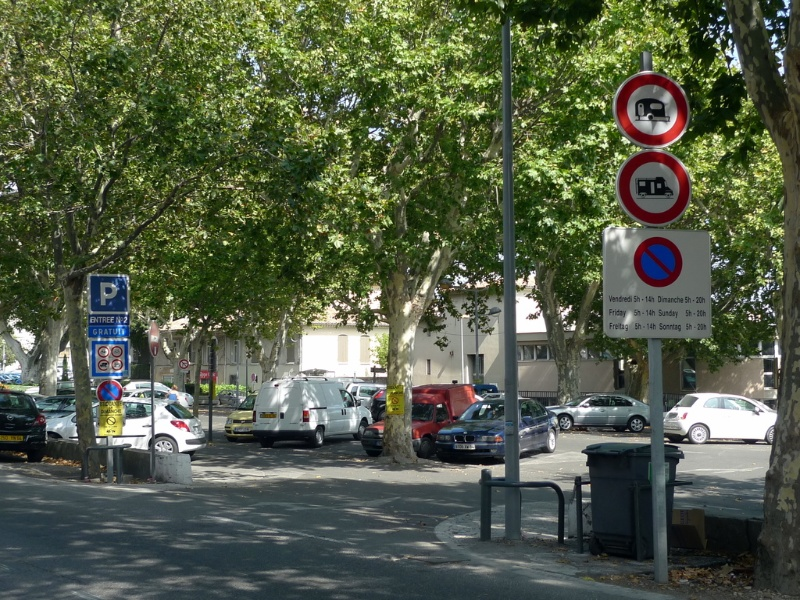no_entry: (597, 224, 709, 303)
parking: (82, 264, 136, 316)
